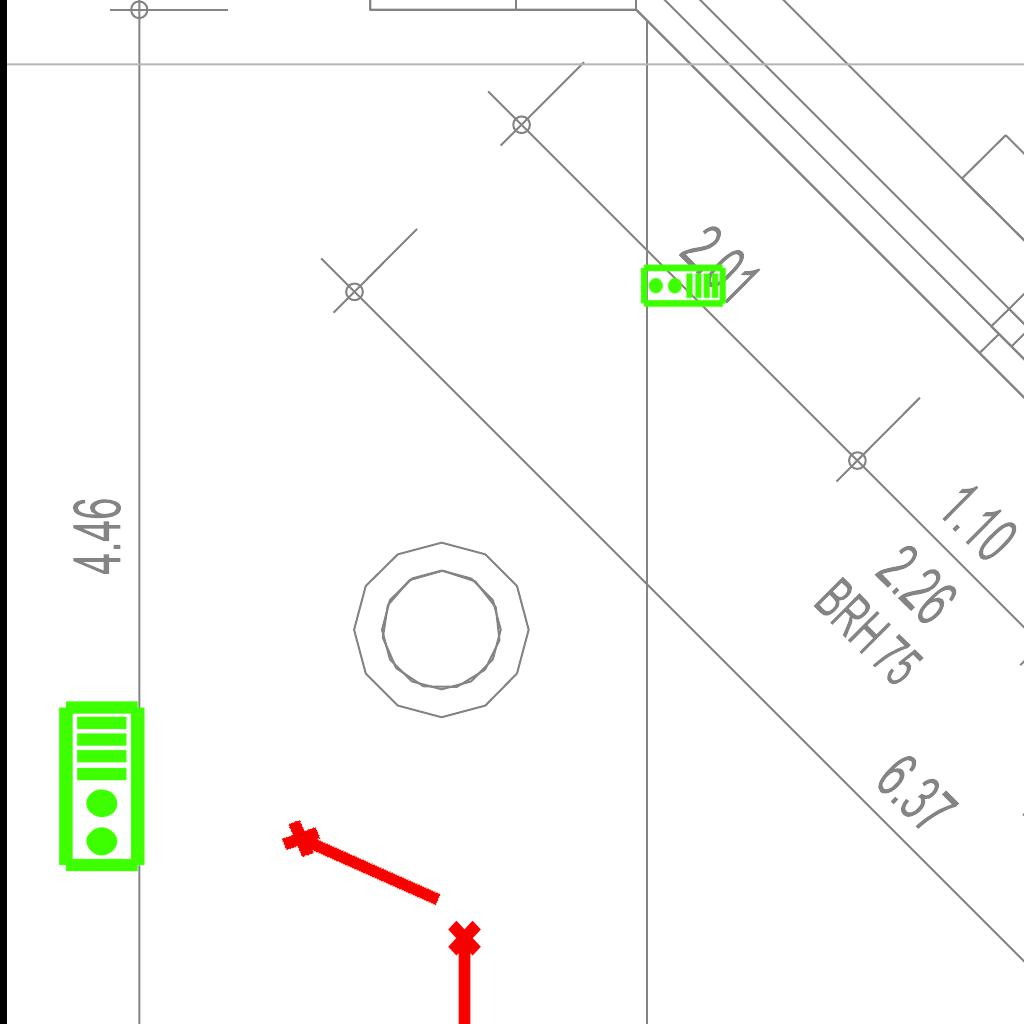ASR_Ansaugoeffnung: (274, 807, 454, 921), (444, 918, 490, 1024)
Gegensprechanlage_mit_Video: (56, 699, 151, 875), (639, 263, 727, 310)
